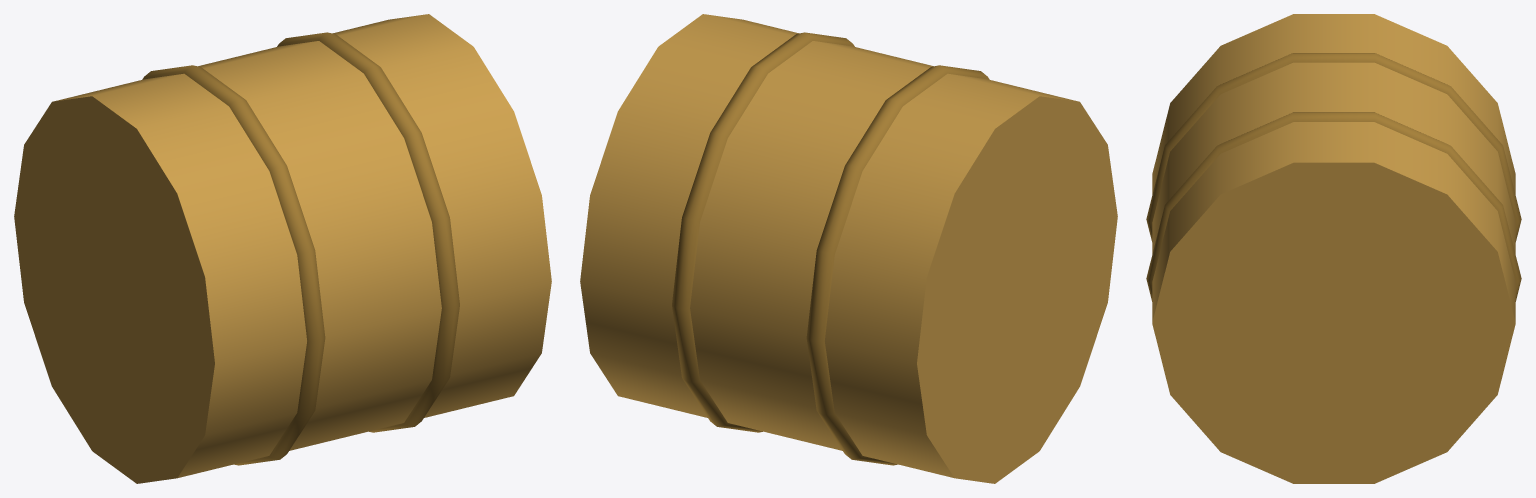
File: hay_mid.glb
3 renders of one model, left to right at view 1: azimuth 30°, elevation 25°; view 2: azimuth 150°, elevation 25°; view 3: azimuth 270°, elevation 25°, orthographic. The views are drawn at different scales.
Bounding box in the file's own units: 1.2 × 1.25 × 1.28.
